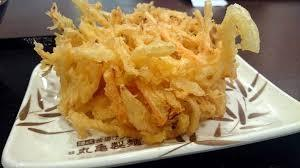kakiage: (54, 4, 232, 134)
